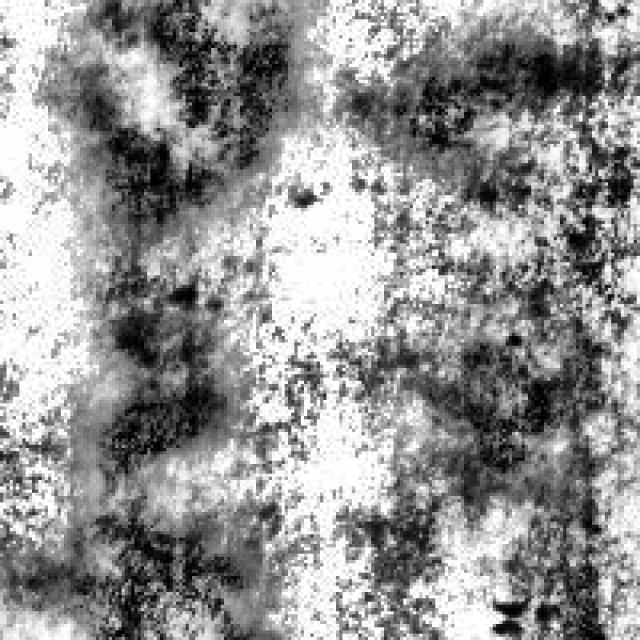Scratches: (64, 0, 304, 240), (28, 474, 266, 636), (83, 278, 227, 516), (352, 28, 579, 166), (442, 320, 595, 502)
